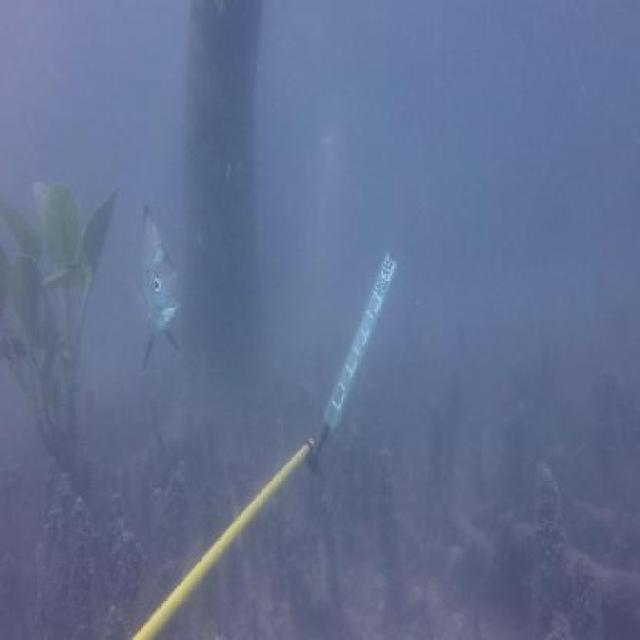acanthopagrus_palmaris: (129, 194, 182, 372)
